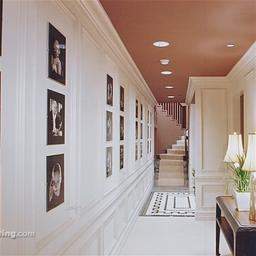Escaleras: (156, 131, 190, 188)
